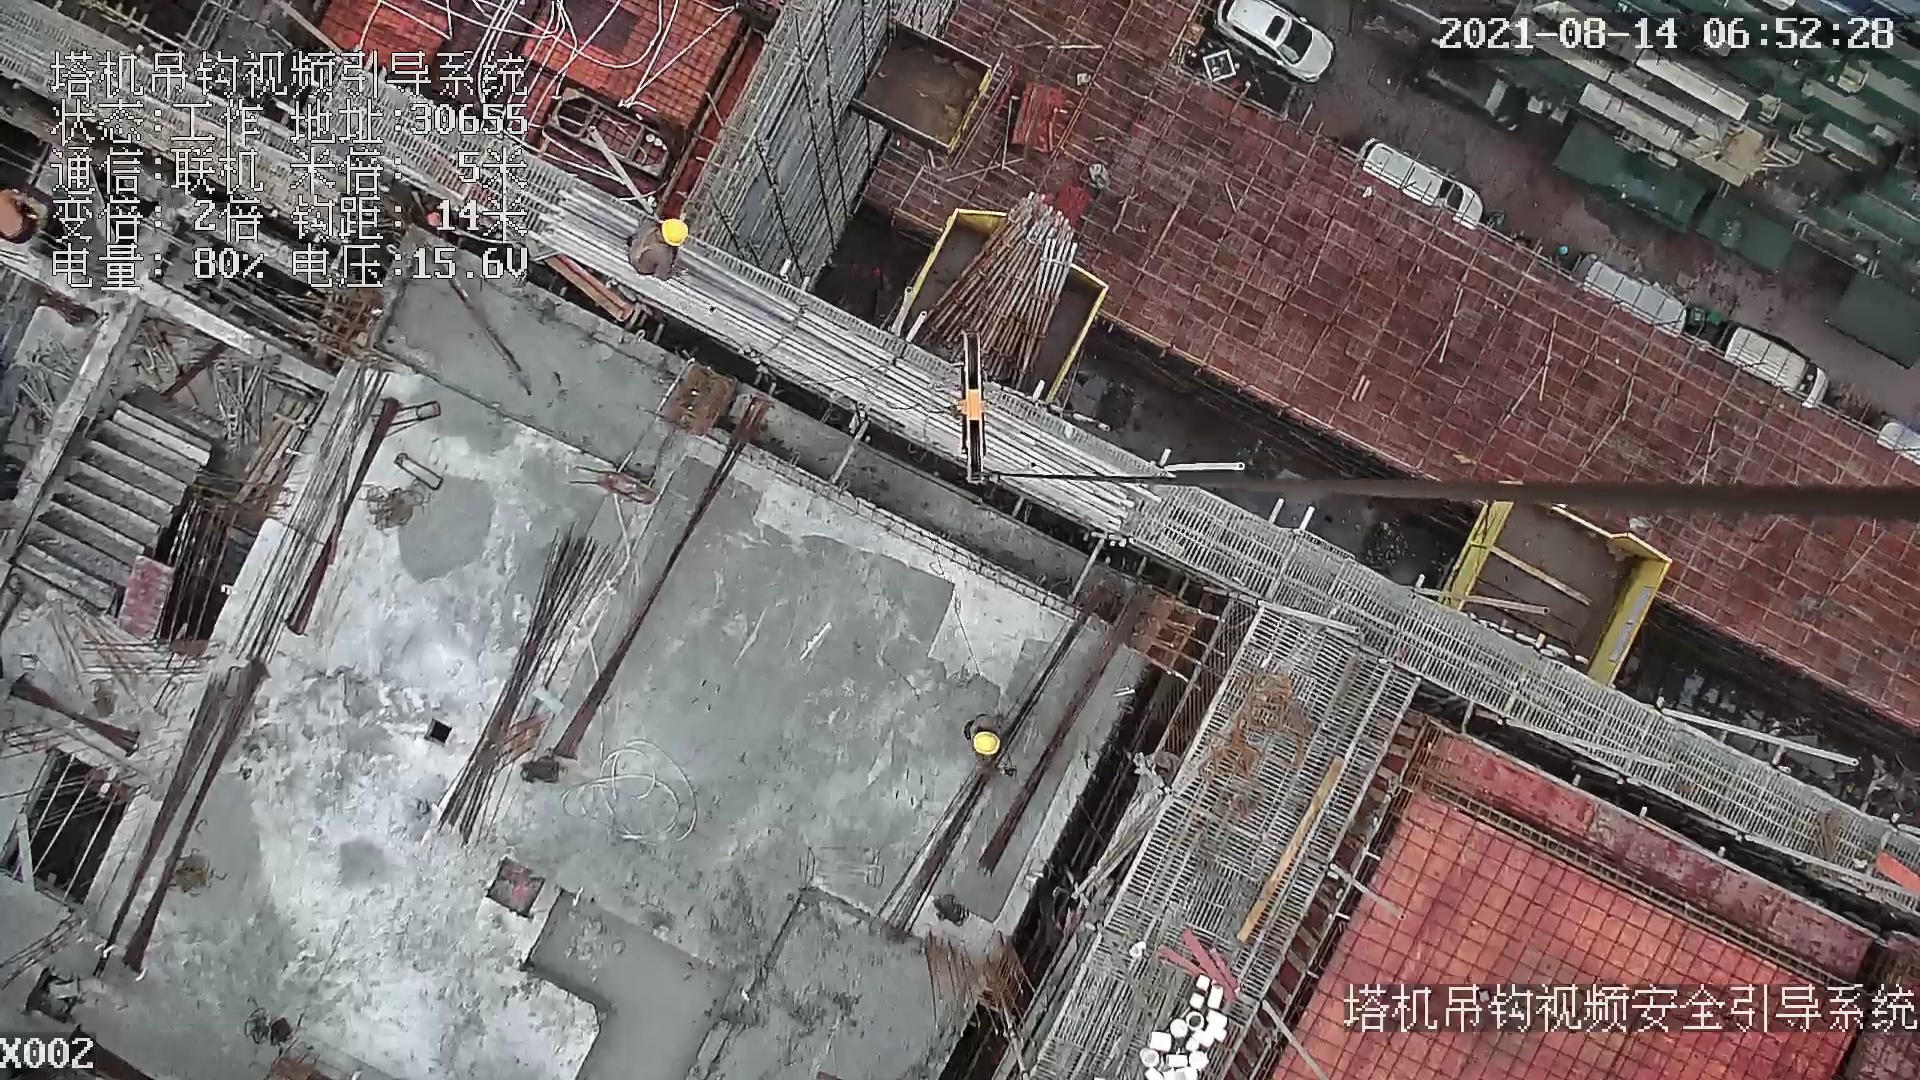helmet: (661, 218, 687, 246), (973, 731, 1000, 755)
hook: (947, 330, 1003, 491)
person: (620, 221, 688, 287), (967, 706, 1012, 785), (1, 185, 38, 243)
rebar: (533, 191, 1153, 534), (440, 529, 610, 843)
scaffold: (913, 189, 1077, 399)
